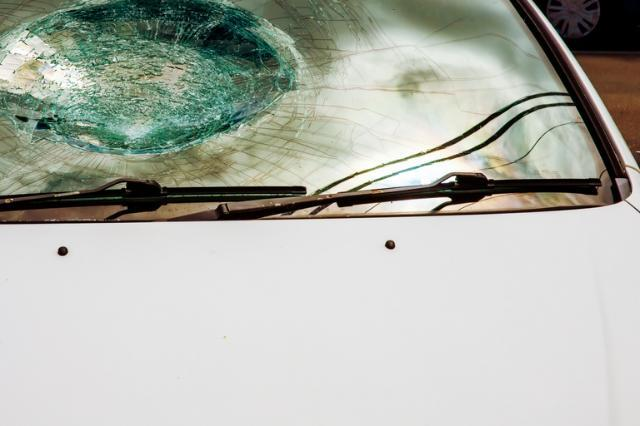Windshield: (1, 0, 590, 198)
